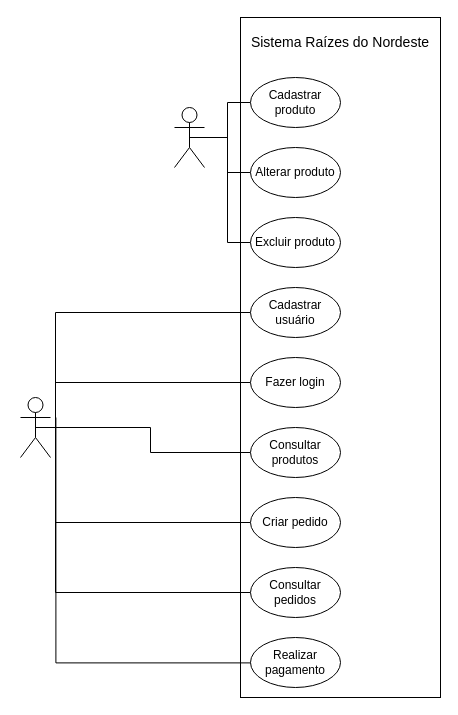
Image size: 458x715. Some labels were removed from this diagram. Each missing label, with the centre of its shape:
Adminstrador: the point at 189,137
Cliente: the point at 35,427
